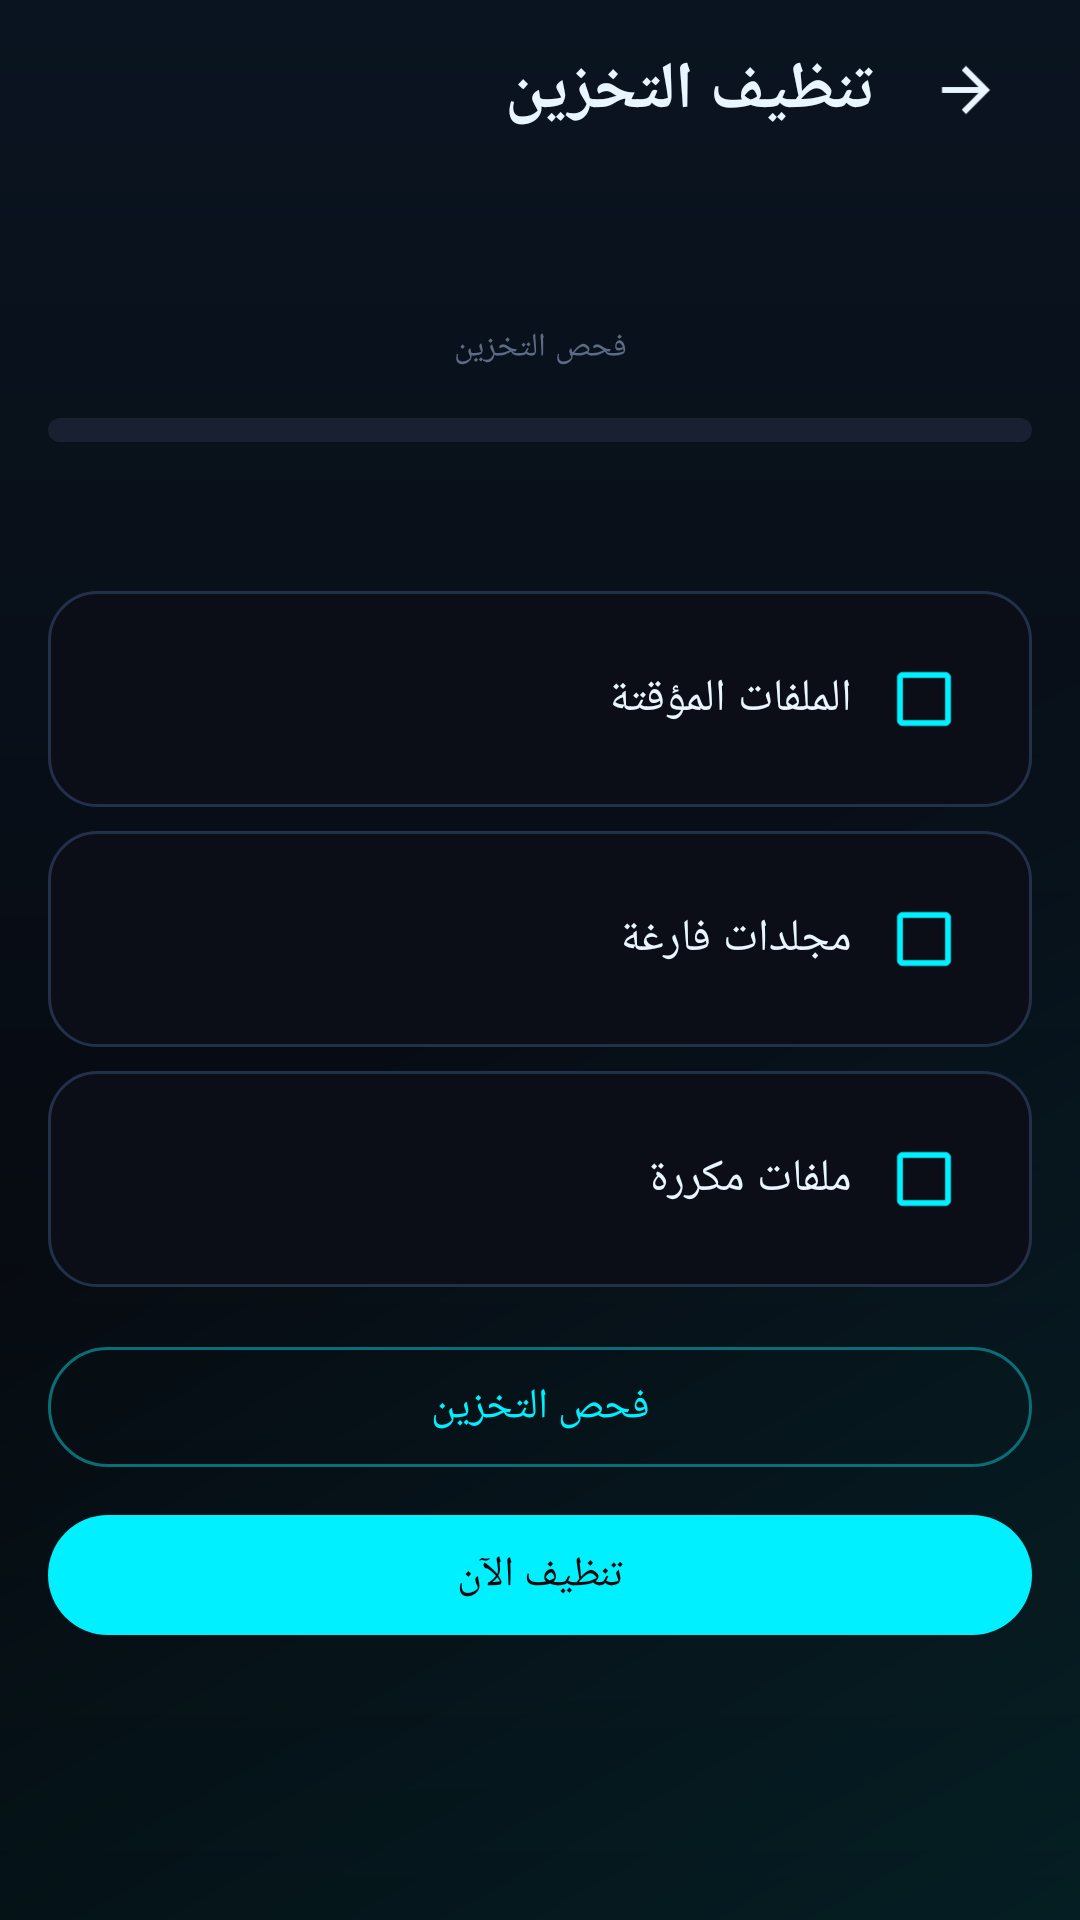

Screen size 1080px×1920px. Icon name, then its center in pixels as [x,y]:
رجوع: [965,90]
